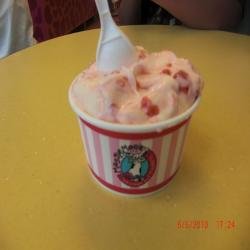icecream: (56, 40, 207, 196)
